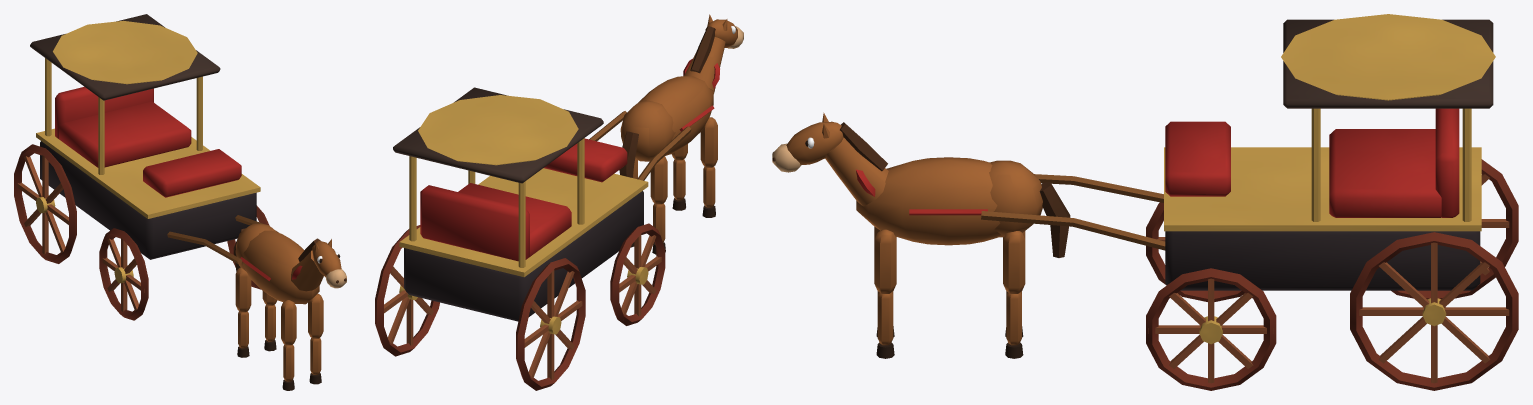
File: prop_phaeton.glb
The picture shows the model from 3 angles, left to right: view 1: azimuth 30°, elevation 25°; view 2: azimuth 150°, elevation 25°; view 3: azimuth 270°, elevation 25°; orthographic projection. The views are drawn at different scales.
Visible parts, largest first — view 1: prop_phaeton, wheel_rear_L, wheel_front_L; view 2: prop_phaeton, wheel_rear_L, wheel_front_L, wheel_rear_R; view 3: prop_phaeton, wheel_rear_R, wheel_front_R, wheel_rear_L, wheel_front_L.
Part boxes in pixels (x1,y1,x2,y2): prop_phaeton: (30, 14, 346, 390); wheel_rear_L: (14, 144, 76, 263); wheel_front_L: (99, 228, 148, 320); prop_phaeton: (393, 14, 743, 321); wheel_rear_L: (516, 258, 585, 390); wheel_front_L: (610, 223, 665, 325); wheel_rear_R: (375, 225, 439, 356); prop_phaeton: (772, 14, 1495, 358); wheel_rear_R: (1350, 232, 1518, 390); wheel_front_R: (1146, 268, 1276, 390); wheel_rear_L: (1391, 159, 1518, 299); wheel_front_L: (1146, 202, 1244, 301).
Bounding box in the file's own units: 1.7 × 2.4 × 5.6.
1 material, 1 textured.
